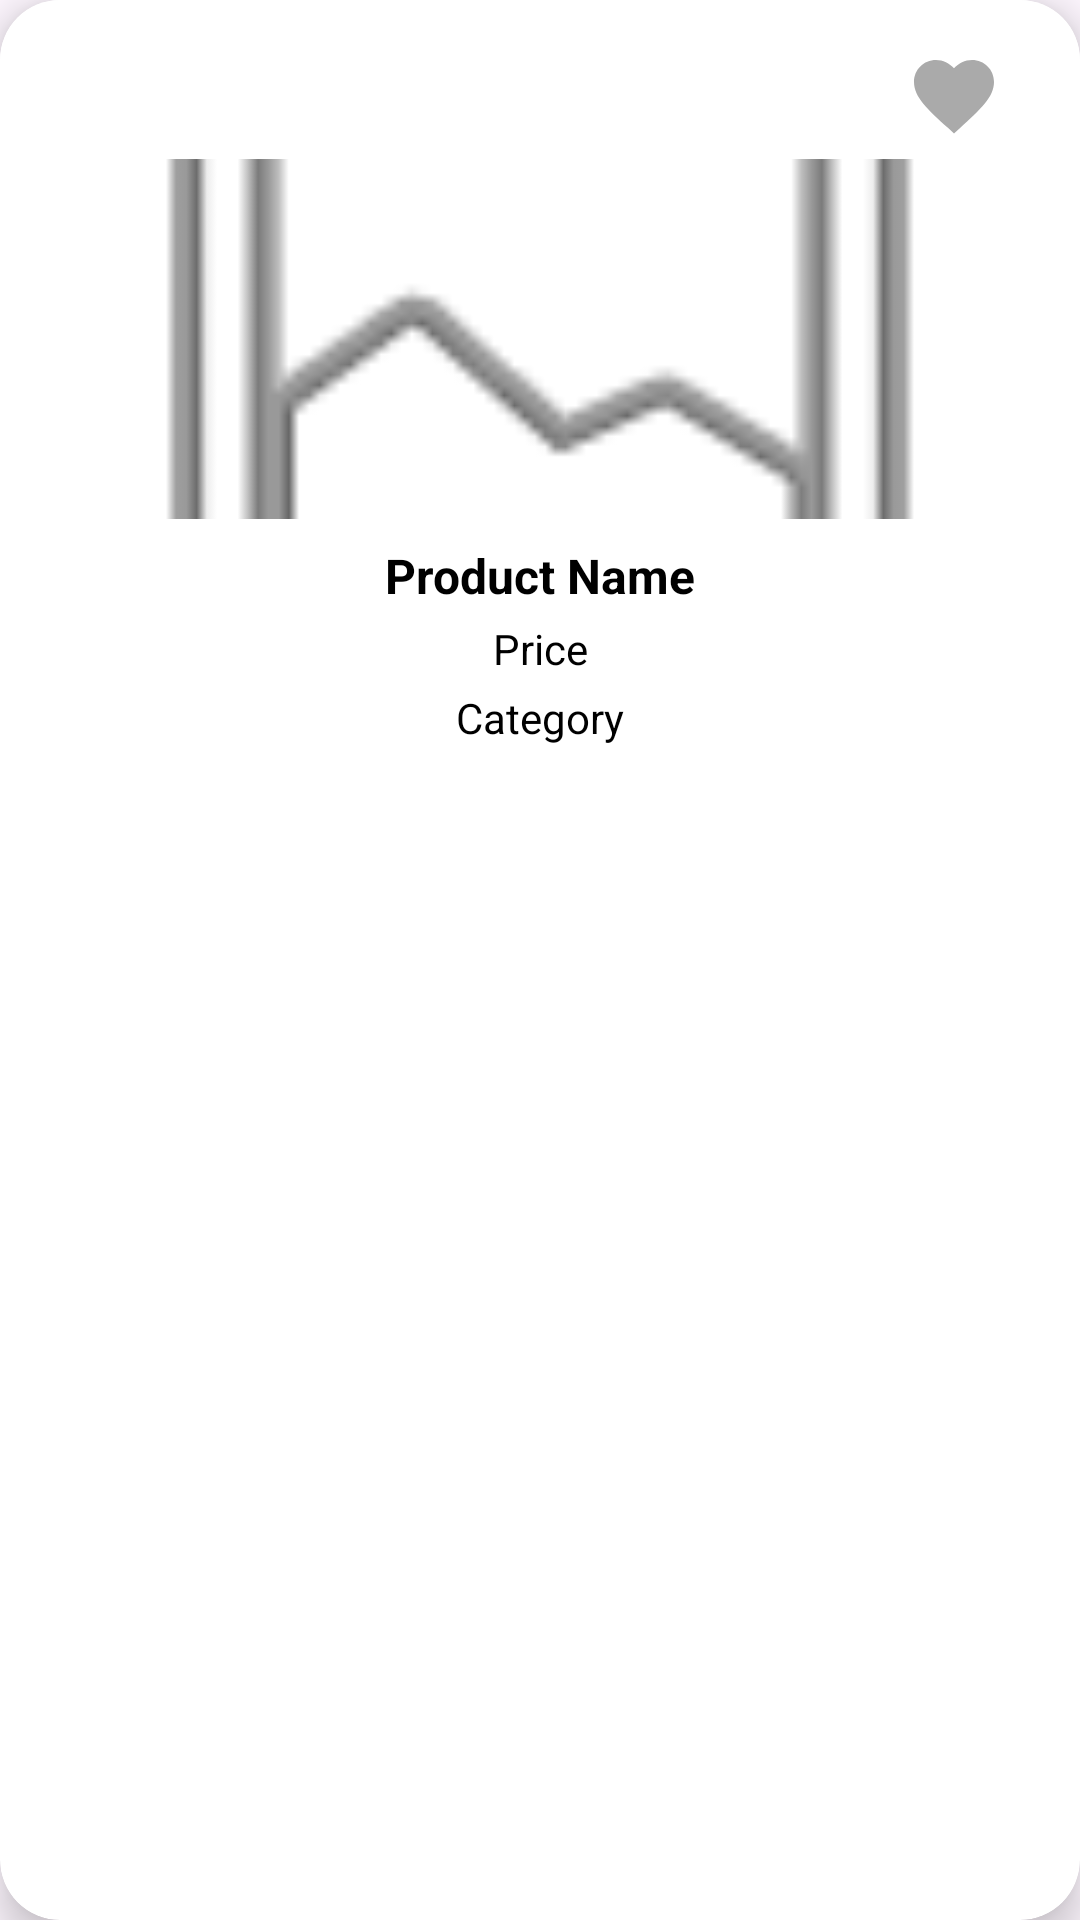

Locate icon controls on the screen. Image size 1080px x 1920px, boxes as [x1=x1, y1=y1, x2=x2, y2=y2].
Wishlist Heart: [x1=914, y1=60, x2=994, y2=133]
